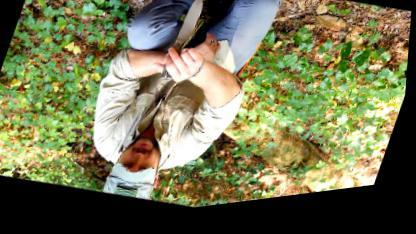knife: (159, 0, 217, 89)
